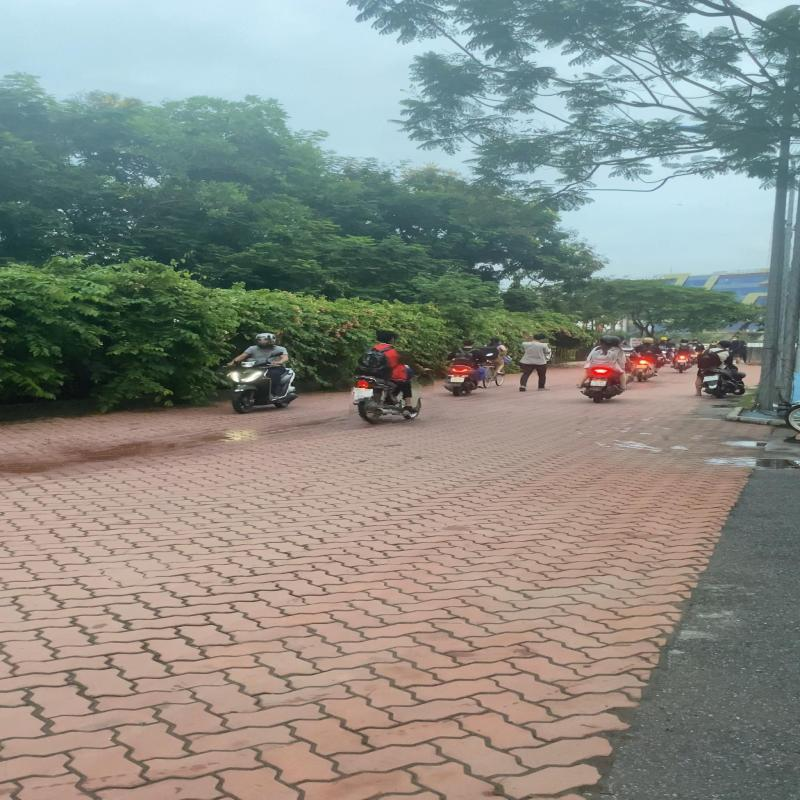licenseplate: (354, 390, 374, 400)
motorcyclist: (350, 329, 438, 426)
nohelmet: (375, 331, 394, 343)
